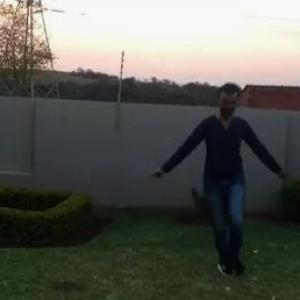land: (167, 82, 285, 255)
